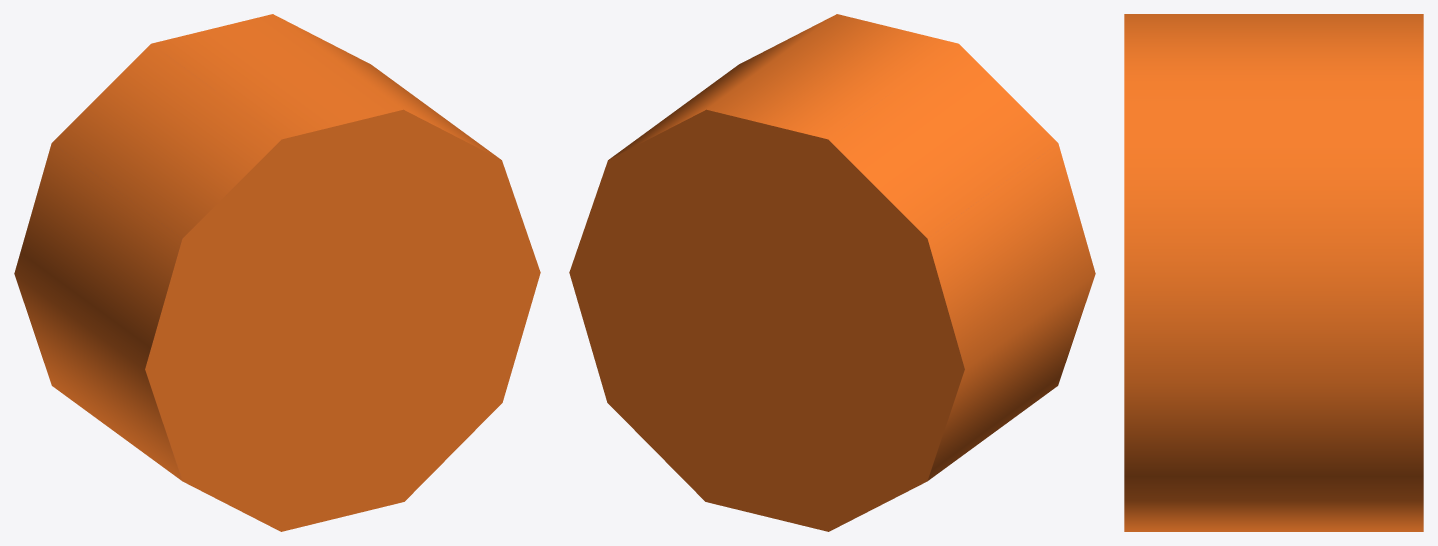
Rendered from pergunta10.glb.
The picture shows the model from 3 angles, left to right: view 1: azimuth 30°, elevation 25°; view 2: azimuth 150°, elevation 25°; view 3: azimuth 270°, elevation 25°; orthographic projection. The views are drawn at different scales.
Visible parts, largest first — view 1: mesh_id38; view 2: mesh_id38; view 3: mesh_id38.
Boxes of the visible parts, x1,y1,x2,y2 form: mesh_id38: [14, 14, 540, 531]; mesh_id38: [569, 14, 1095, 531]; mesh_id38: [1124, 14, 1423, 531].
Size of the model in its own units: 0.5702 by 0.5404 by 0.3264.
Materials: 1 (1 with a texture image).
